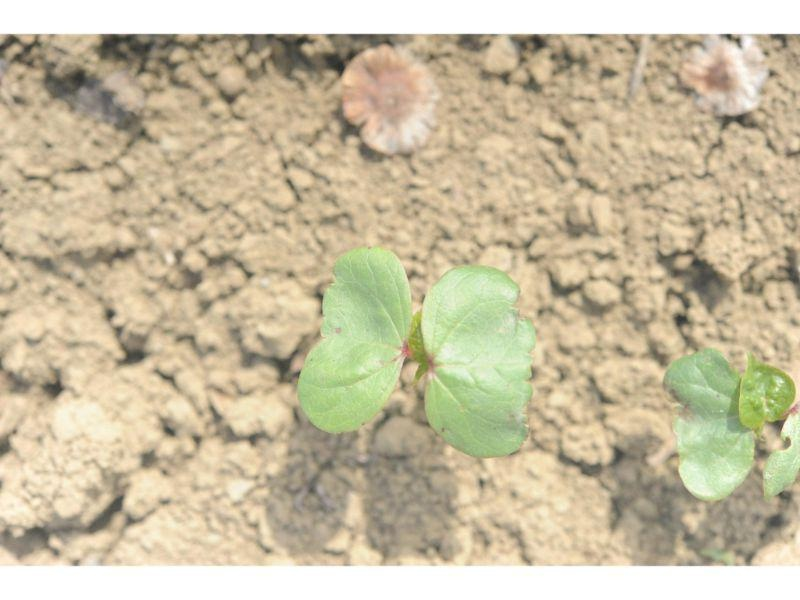cotton: (297, 243, 536, 460), (662, 349, 797, 503)
